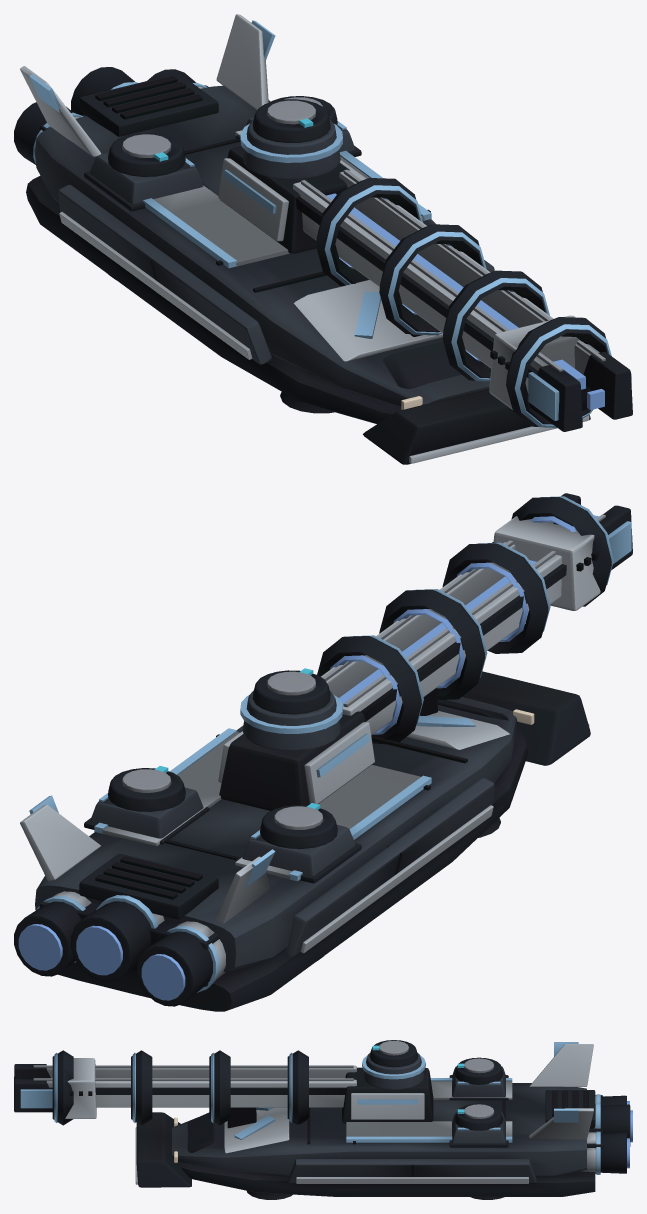
Rendered from ex_lancer_4.glb.
3 renders of one model, top to bottom at view 1: azimuth 30°, elevation 25°; view 2: azimuth 150°, elevation 25°; view 3: azimuth 270°, elevation 25°, orthographic. The views are drawn at different scales.
Parts seen in each view (by area): view 1: body; view 2: body; view 3: body.
Part boxes in pixels (x1,y1,x2,y2): body: (14,14,632,464); body: (14,493,632,1011); body: (14,1040,632,1199).
Bounding box in the file's own units: 3.58 × 2.72 × 12.34.
